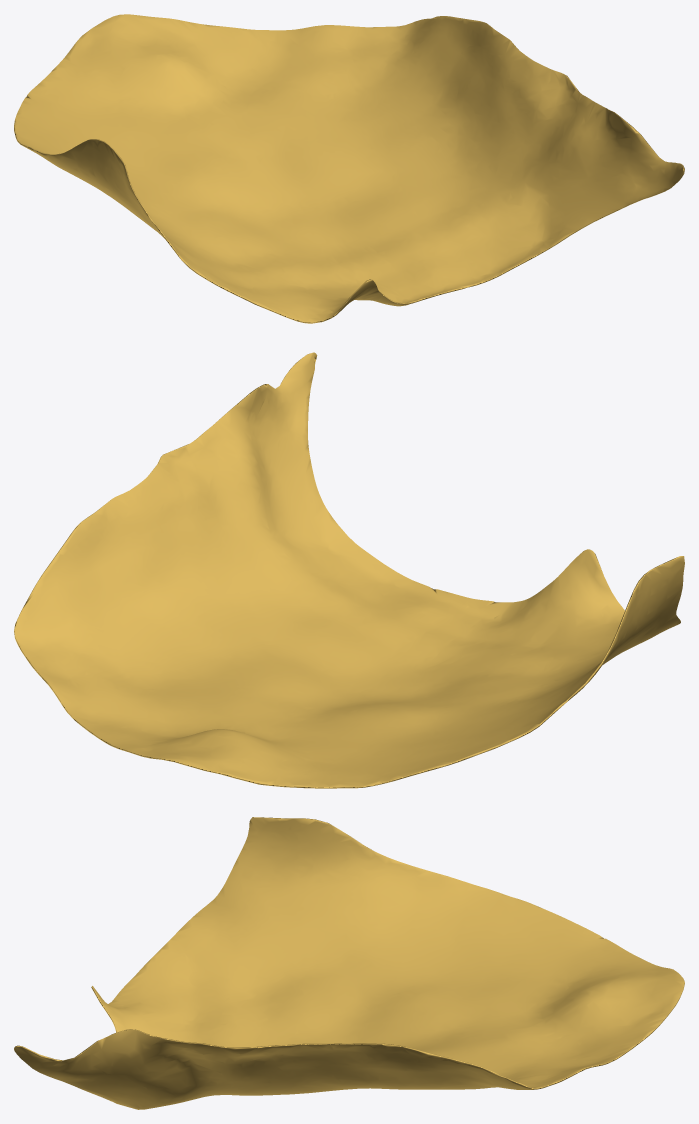
3 views of the same model, one above another, from view 1: azimuth 30°, elevation 25°; view 2: azimuth 150°, elevation 25°; view 3: azimuth 270°, elevation 25° (orthographic). The views are drawn at different scales.
Parts seen in each view (by area): view 1: 大网膜; view 2: 大网膜; view 3: 大网膜.
Part boxes in pixels (<box>): 大网膜: <box>14,14,684,323</box>; 大网膜: <box>14,352,684,788</box>; 大网膜: <box>14,817,684,1109</box>.
Bounding box in the file's own units: 0.3121 × 0.1023 × 0.4175.
